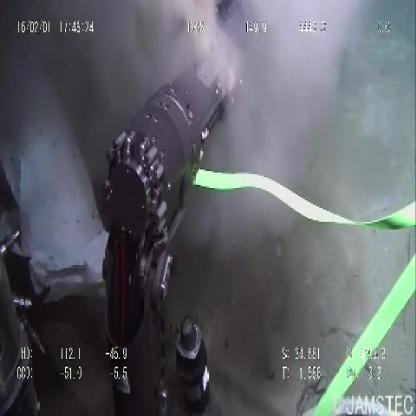Rov: (99, 14, 242, 402)
Rác: (1, 78, 113, 298)
